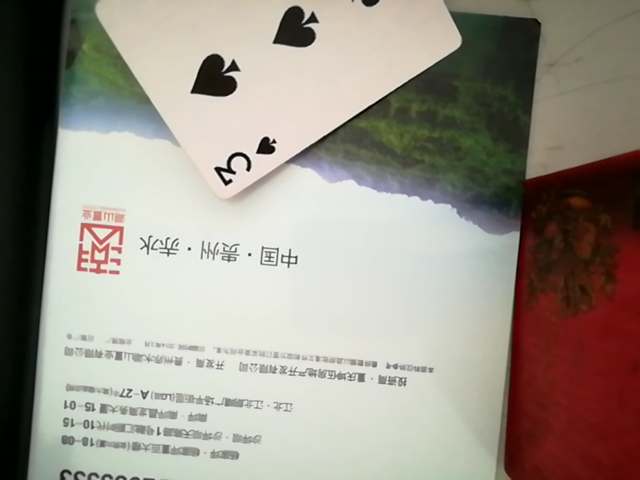ht 3: (94, 1, 467, 202)
